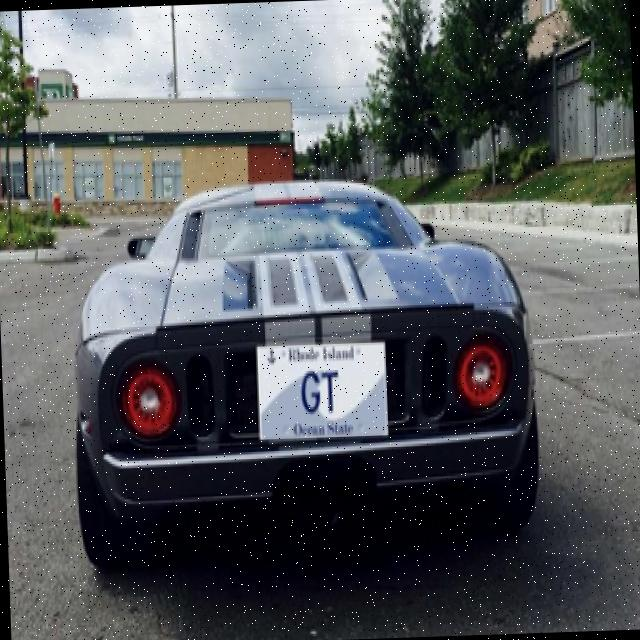Autre: (251, 334, 391, 440)
